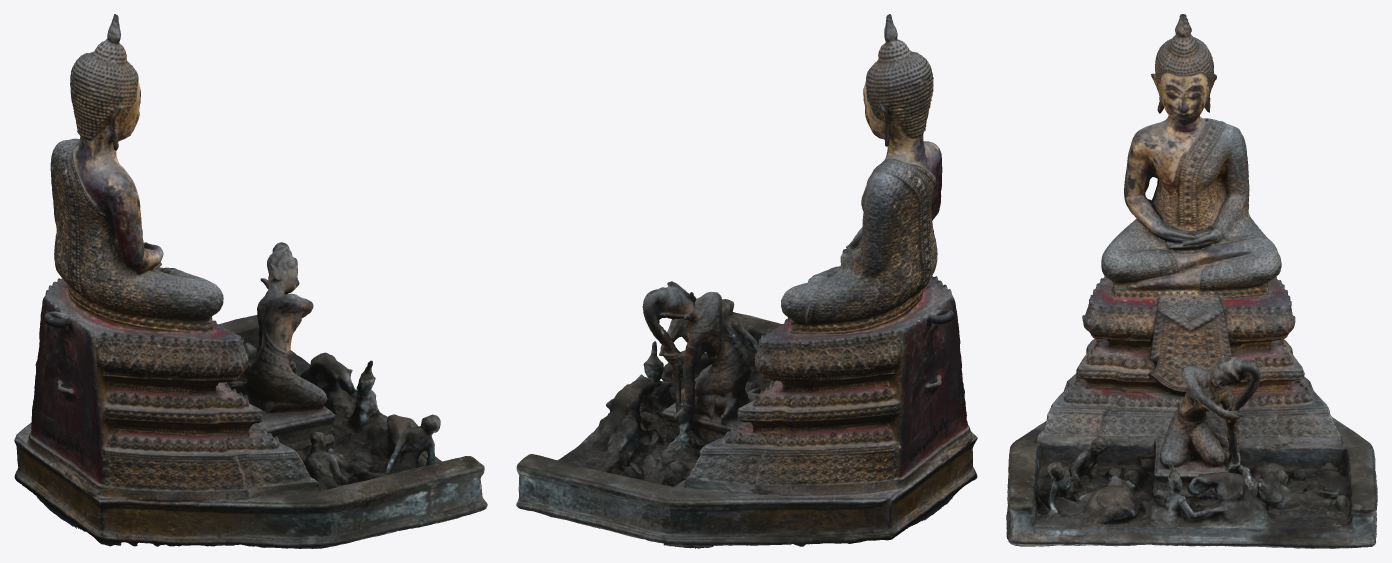
The picture shows the model from 3 angles, left to right: view 1: azimuth 30°, elevation 25°; view 2: azimuth 150°, elevation 25°; view 3: azimuth 270°, elevation 25°; orthographic projection. The views are drawn at different scales.
Parts seen in each view (by area): view 1: Object_8, Object_5, Object_7, Object_4, Object_12, Object_6, Object_13, Object_11, Object_9, Object_10, Object_3, Object_2; view 2: Object_6, Object_9, Object_10, Object_3, Object_7, Object_4, Object_11, Object_12, Object_2, Object_5, Object_13, Object_8; view 3: Object_3, Object_2, Object_10, Object_5, Object_4, Object_12, Object_6, Object_9, Object_13, Object_11, Object_7, Object_8.
Part boxes in pixels (x1,y1,x2,y2): Object_8: (86,347,434,547); Object_5: (45,46,246,400); Object_7: (45,291,349,548); Object_4: (51,58,218,407); Object_12: (62,283,377,548); Object_6: (14,14,258,481); Object_13: (54,284,337,548); Object_11: (15,242,430,548); Object_9: (19,298,487,528); Object_10: (14,255,483,500); Object_3: (50,139,257,456); Object_2: (68,266,324,450); Object_6: (518,14,961,548); Object_9: (661,299,917,545); Object_10: (567,292,919,542); Object_3: (716,159,942,437); Object_7: (516,284,968,538); Object_4: (688,66,942,547); Object_11: (558,273,968,546); Object_12: (681,284,868,539); Object_2: (639,247,909,477); Object_5: (814,48,957,409); Object_13: (788,231,977,510); Object_8: (564,319,977,545); Object_3: (1079,118,1296,467); Object_2: (1056,217,1327,494); Object_10: (1007,247,1329,548); Object_5: (1085,38,1277,447); Object_4: (1102,48,1318,465); Object_12: (1009,230,1314,504); Object_6: (1087,14,1377,515); Object_9: (1006,351,1334,546); Object_13: (1021,250,1280,478); Object_11: (1006,355,1331,548); Object_7: (1067,272,1377,548); Object_8: (1008,348,1349,545).
Size of the model in its own units: 32.13 by 44.76 by 35.4.
1 material, 1 textured.
